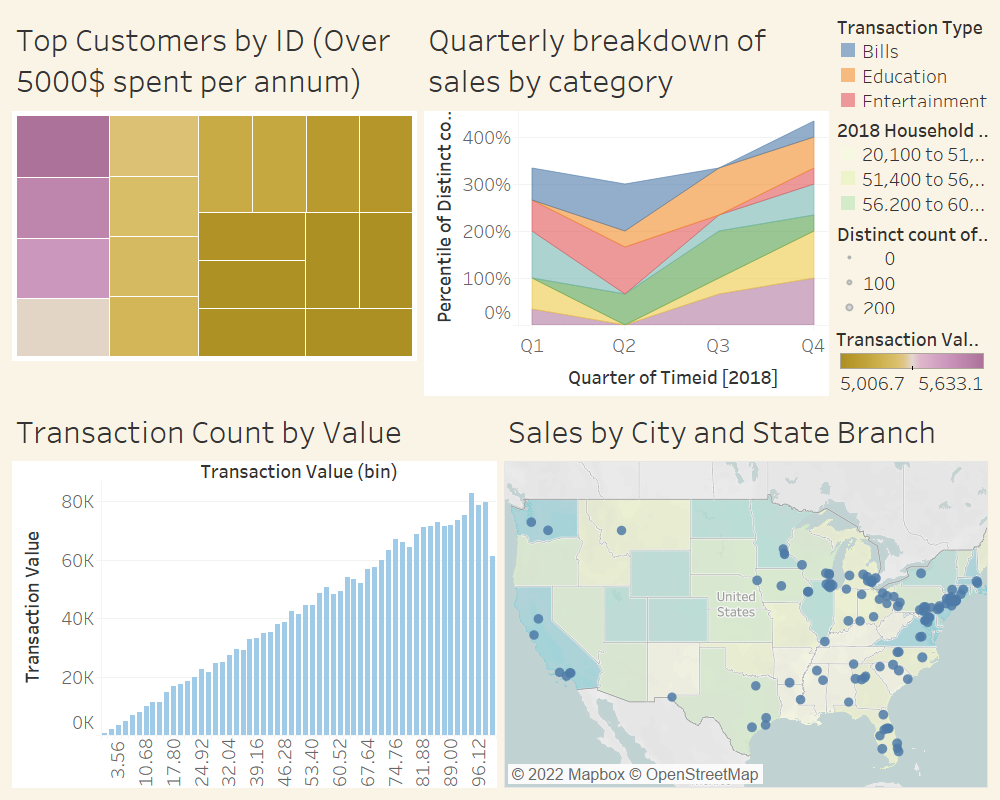

The dashboard page shown, as its layout file describes it:
{"tool":"tableau","page":{"name":"Dashboard 1","canvas":[1000,800],"ordinal":0},"visuals":[{"type":"worksheet","title":"Sheet 3","mark":"Automatic","box":[8,8,412,392]},{"type":"worksheet","title":"Sheet 1","mark":"Area","cols":["TIMEID"],"box":[420,8,412,392]},{"type":"legend","title":"Sheet 1","param":"[federated.10b8m250dgnrii12g6mlh1dwptc5].[none:TRANSACTION_TYPE:nk]","box":[832,8,160,103.7]},{"type":"legend","title":"Sheet 2","box":[832,111.7,160,103.7]},{"type":"legend","title":"Sheet 2","param":"[federated.10b8m250dgnrii12g6mlh1dwptc5].[ctd:TRANSACTION_ID:qk]","box":[832,215.3,160,103.7]},{"type":"legend","title":"Sheet 3","param":"[federated.10b8m250dgnrii12g6mlh1dwptc5].[sum:TRANSACTION_VALUE:qk]","box":[832,319,160,81]},{"type":"worksheet","title":"Sheet 4","mark":"Automatic","rows":["TRANSACTION_VALUE"],"cols":["Transaction Value (bin)"],"box":[8,400,492,392]},{"type":"worksheet","title":"Sheet 2","mark":"Pie","box":[500,400,492,392]}]}

Visuals, with their boxes in screenshot pixels (x1, y1, x2, y2), scaled from the page's 1000x800 canvas onto the 1000x800 screenshot:
"Sheet 3" worksheet: <box>8,8,420,400</box>
"Sheet 1" worksheet (Area marks): <box>420,8,832,400</box>
"Sheet 1" legend: <box>832,8,992,112</box>
"Sheet 2" legend: <box>832,112,992,215</box>
"Sheet 2" legend: <box>832,215,992,319</box>
"Sheet 3" legend: <box>832,319,992,400</box>
"Sheet 4" worksheet: <box>8,400,500,792</box>
"Sheet 2" worksheet (Pie marks): <box>500,400,992,792</box>
